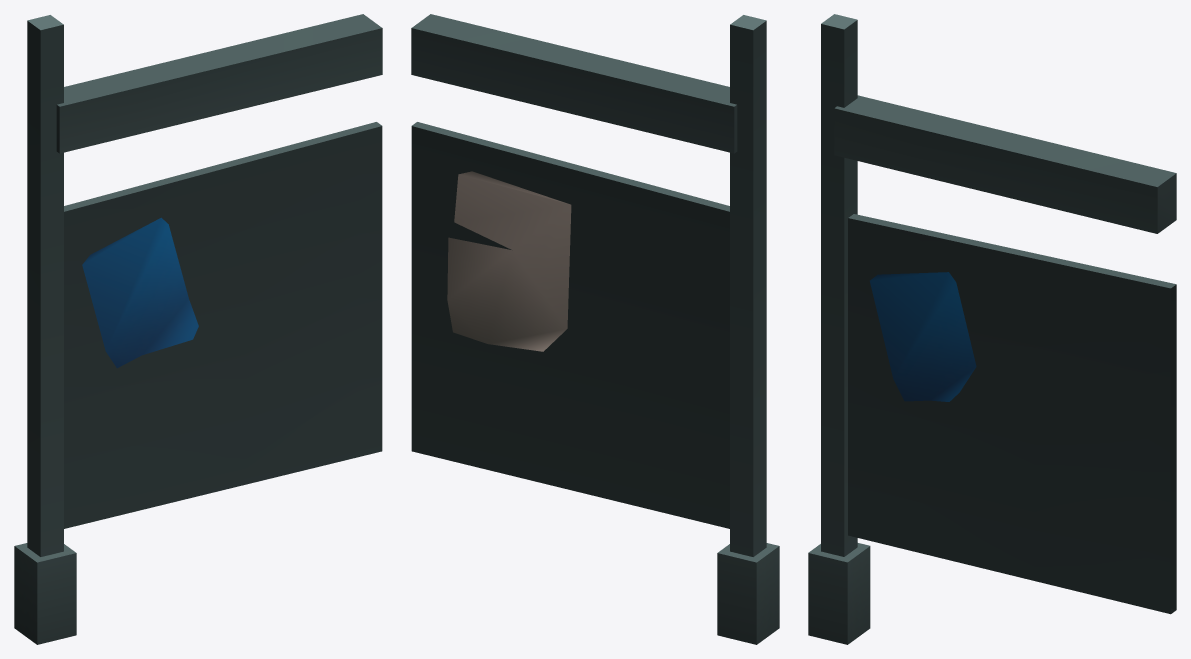
File: Metal_Fence_2B.fbx
3 renders of one model, left to right at view 1: azimuth 30°, elevation 25°; view 2: azimuth 150°, elevation 25°; view 3: azimuth 330°, elevation 25°, orthographic.
Visible parts, largest first — view 1: Metal_Fence_2B; view 2: Metal_Fence_2B; view 3: Metal_Fence_2B.
Boxes of the visible parts, x1,y1,x2,y2 form: Metal_Fence_2B: (14,14,382,644); Metal_Fence_2B: (411,14,779,644); Metal_Fence_2B: (808,14,1176,644).
Size of the model in its own units: 2.13 by 3.5 by 0.3142.
